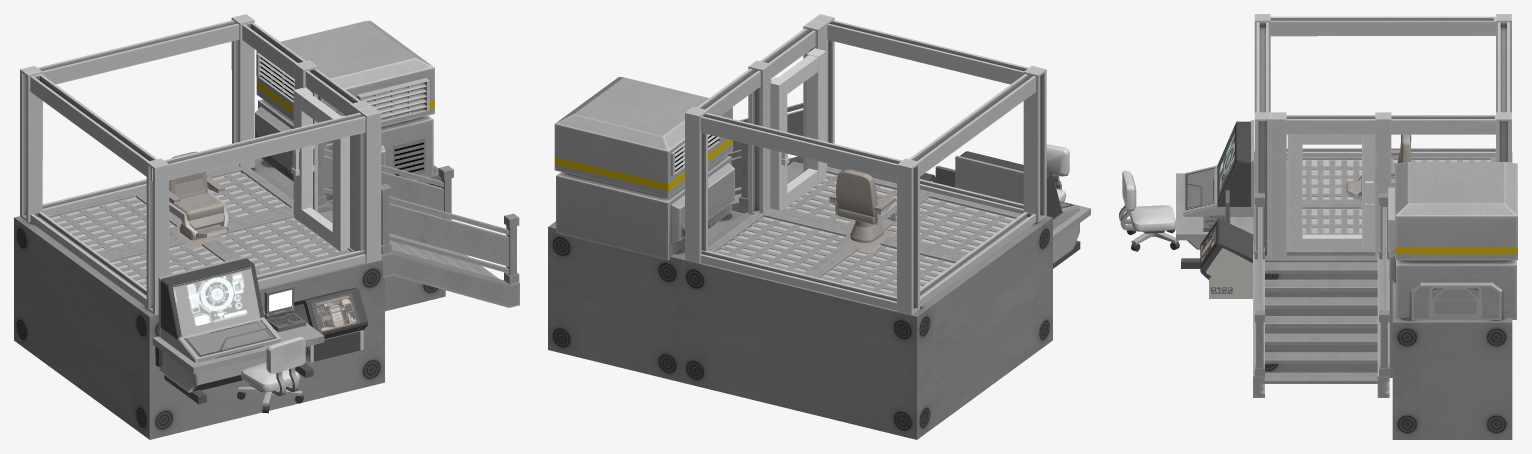
File: Pfb_ObservationDeck_Temp__9.fbx
3 views of the same model, side by side, from view 1: azimuth 30°, elevation 25°; view 2: azimuth 150°, elevation 25°; view 3: azimuth 270°, elevation 25° (orthographic). The views are drawn at different scales.
Visible parts, largest first — view 1: Mat_SteelFrame_01, MAT_ScalableMesh_01, Mat_Ventilation_Soda, Mat_Stairs_Soda, Mat_Network_01_2, MAT_Soda_Instruments_Grey 6, Mat_TS_Metall 2, Mat_Tile_Color_01 7, MAT_Soda_Instruments_Grey 7, Mat_Tile_Color_07 2, Mat_Chair_01, Mat_Table_01 (+2 smaller); view 2: MAT_ScalableMesh_01, Mat_SteelFrame_01, Mat_Ventilation_Soda, Mat_Network_01_2, Mat_TS_Metall 2, Mat_Tile_Color_01 7, Mat_Tile_Color_07 2, Mat_CementMold_1, Mat_Stairs_Soda, MAT_Soda_Instruments_Grey 6, Mat_Chair_01, Mat_Table_01; view 3: MAT_ScalableMesh_01, Mat_Ventilation_Soda, Mat_SteelFrame_01, Mat_Stairs_Soda, Mat_TS_Metall 2, Mat_Network_01_2, MAT_Soda_Instruments_Grey 6, MAT_Soda_Instruments_Grey 7, Mat_Chair_01, Mat_Tile_Color_01 7, Mat_Table_01, Mat_Tile_Color_07 2 (+1 smaller).
Boxes of the visible parts, bbox=[...] form: Mat_SteelFrame_01: bbox=[20, 14, 381, 314]; MAT_ScalableMesh_01: bbox=[14, 158, 445, 439]; Mat_Ventilation_Soda: bbox=[255, 20, 434, 200]; Mat_Stairs_Soda: bbox=[318, 142, 519, 307]; Mat_Network_01_2: bbox=[37, 165, 354, 296]; MAT_Soda_Instruments_Grey 6: bbox=[159, 258, 282, 392]; Mat_TS_Metall 2: bbox=[293, 88, 349, 251]; Mat_Tile_Color_01 7: bbox=[50, 172, 339, 286]; MAT_Soda_Instruments_Grey 7: bbox=[293, 287, 367, 362]; Mat_Tile_Color_07 2: bbox=[169, 151, 226, 249]; Mat_Chair_01: bbox=[236, 336, 305, 413]; Mat_Table_01: bbox=[152, 310, 324, 404]; MAT_ScalableMesh_01: bbox=[548, 171, 1052, 439]; Mat_SteelFrame_01: bbox=[685, 14, 1046, 315]; Mat_Ventilation_Soda: bbox=[554, 77, 734, 260]; Mat_Network_01_2: bbox=[708, 166, 1028, 296]; Mat_TS_Metall 2: bbox=[770, 48, 826, 210]; Mat_Tile_Color_01 7: bbox=[719, 173, 1014, 293]; Mat_Tile_Color_07 2: bbox=[829, 169, 896, 253]; Mat_CementMold_1: bbox=[955, 155, 1023, 204]; Mat_Stairs_Soda: bbox=[727, 102, 803, 213]; MAT_Soda_Instruments_Grey 6: bbox=[960, 151, 1079, 263]; Mat_Chair_01: bbox=[1046, 144, 1069, 201]; Mat_Table_01: bbox=[1053, 201, 1090, 268]; MAT_ScalableMesh_01: bbox=[1253, 151, 1512, 439]; Mat_Ventilation_Soda: bbox=[1388, 162, 1517, 319]; Mat_SteelFrame_01: bbox=[1254, 14, 1511, 259]; Mat_Stairs_Soda: bbox=[1253, 193, 1389, 397]; Mat_TS_Metall 2: bbox=[1287, 134, 1375, 250]; Mat_Network_01_2: bbox=[1286, 157, 1495, 255]; MAT_Soda_Instruments_Grey 6: bbox=[1183, 121, 1250, 249]; MAT_Soda_Instruments_Grey 7: bbox=[1200, 219, 1252, 298]; Mat_Chair_01: bbox=[1119, 170, 1179, 251]; Mat_Tile_Color_01 7: bbox=[1302, 160, 1490, 233]; Mat_Table_01: bbox=[1176, 173, 1253, 268]; Mat_Tile_Color_07 2: bbox=[1347, 134, 1411, 194].
Size of the model in its own units: 6.29 by 4.39 by 6.17.
16 materials, 16 textured.
